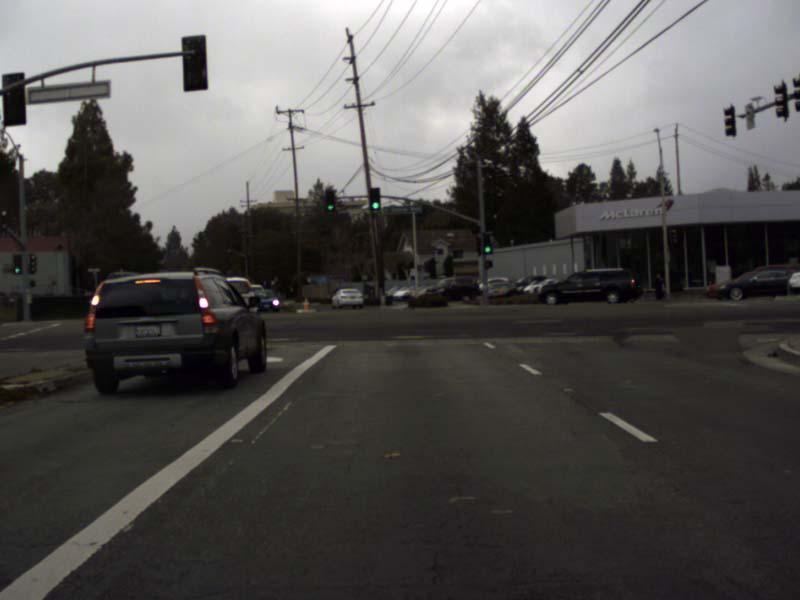Green: (325, 191, 334, 213), (483, 233, 492, 254), (371, 188, 379, 209), (13, 255, 21, 273)
